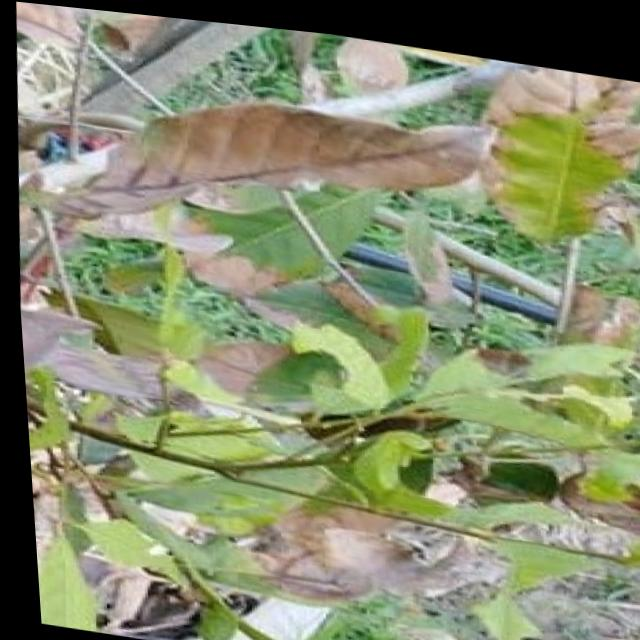Leaf Blight: (87, 13, 513, 274), (13, 243, 269, 489), (229, 465, 540, 640)
